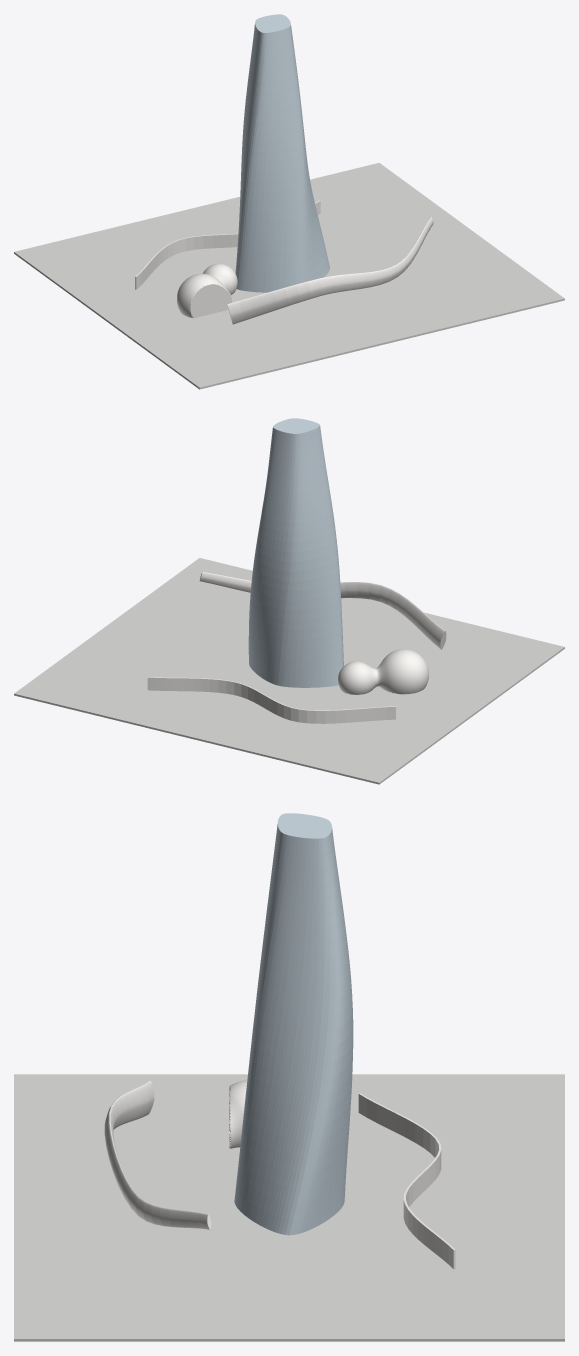
File: zaha.glb
3 views of the same model, one above another, from view 1: azimuth 30°, elevation 25°; view 2: azimuth 150°, elevation 25°; view 3: azimuth 270°, elevation 25° (orthographic). The views are drawn at different scales.
Visible parts, largest first — view 1: plaza, tower, canopy, pavilion, landwall; view 2: plaza, tower, landwall, pavilion, canopy; view 3: plaza, tower, landwall, canopy, pavilion.
Boxes of the visible parts, box(x1,y1,x2,y2) form: plaza: box(14, 162, 564, 389); tower: box(235, 14, 329, 292); canopy: box(227, 217, 433, 324); pavilion: box(177, 263, 237, 318); landwall: box(135, 200, 320, 289); plaza: box(14, 558, 564, 784); tower: box(248, 418, 343, 687); landwall: box(147, 677, 395, 723); pavilion: box(338, 649, 428, 694); canopy: box(199, 572, 446, 649); plaza: box(14, 1074, 564, 1341); tower: box(234, 813, 353, 1235); landwall: box(358, 1093, 455, 1269); canopy: box(104, 1081, 211, 1229); pavilion: box(229, 1080, 247, 1148).
Size of the model in its own units: 125 by 82.6 by 110.
